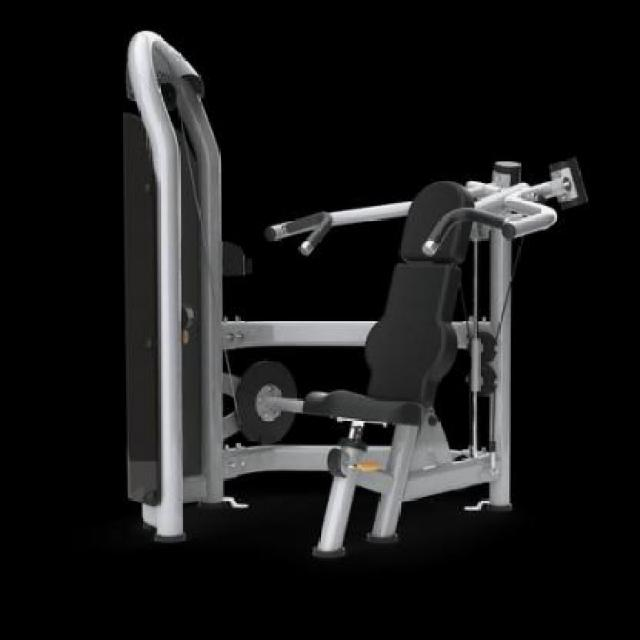shoulder press machine: (128, 23, 590, 562)
